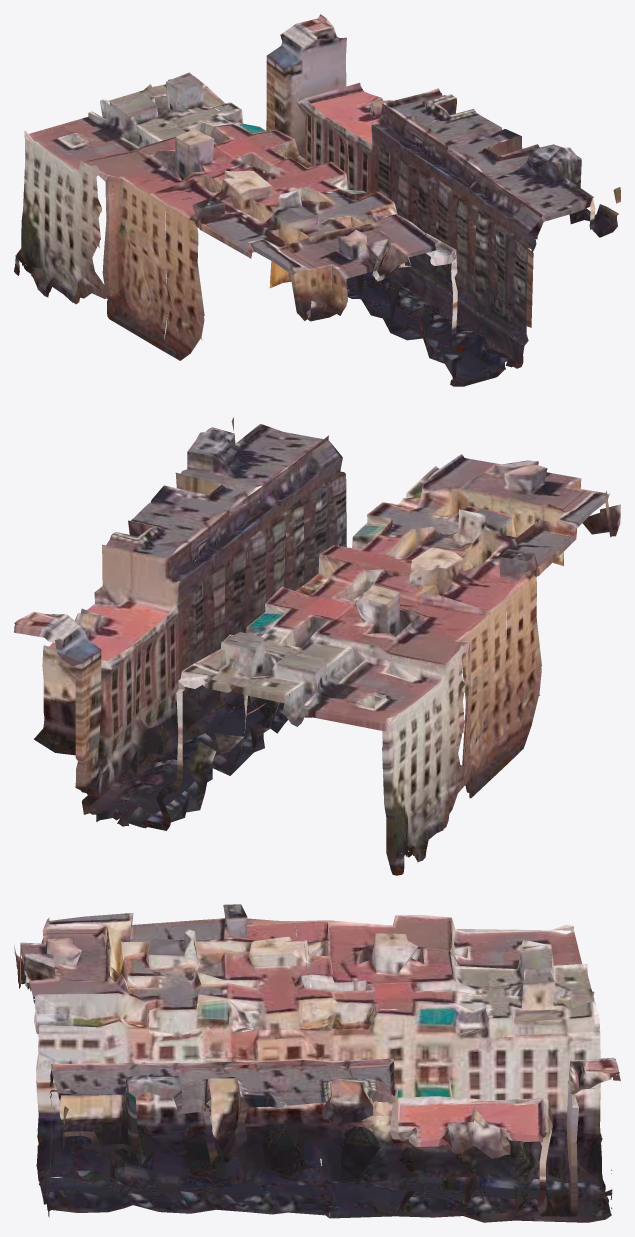
3 renders of one model, top to bottom at view 1: azimuth 30°, elevation 25°; view 2: azimuth 150°, elevation 25°; view 3: azimuth 270°, elevation 25°, orthographic. The views are drawn at different scales.
Visible parts, largest first — view 1: Mesh_0; view 2: Mesh_0; view 3: Mesh_0.
Part boxes in pixels (x1=…): Mesh_0: x1=14, y1=14, x2=620, y2=386; Mesh_0: x1=14, y1=417, x2=620, y2=875; Mesh_0: x1=14, y1=904, x2=620, y2=1222.
Bounding box in the file's own units: 67.5 × 31.2 × 82.57.
Materials: 2 (2 with a texture image).
